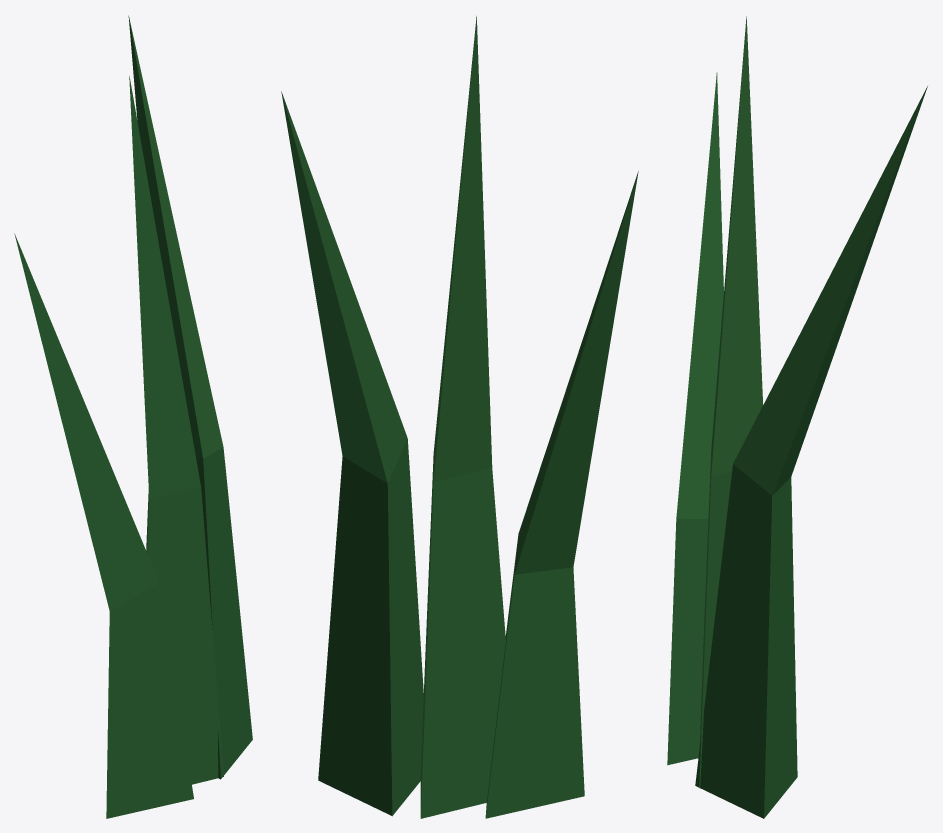
The model's file is TB_Env_Grass_Tall_A.FBX.
3 renders of one model, left to right at view 1: azimuth 30°, elevation 25°; view 2: azimuth 150°, elevation 25°; view 3: azimuth 270°, elevation 25°, orthographic. The views are drawn at different scales.
Visible parts, largest first — view 1: TB_Env_Grass_Tall_A; view 2: TB_Env_Grass_Tall_A; view 3: TB_Env_Grass_Tall_A.
Boxes of the visible parts, x1=… form: TB_Env_Grass_Tall_A: x1=14, y1=15, x2=252, y2=818; TB_Env_Grass_Tall_A: x1=281, y1=16, x2=638, y2=818; TB_Env_Grass_Tall_A: x1=667, y1=16, x2=927, y2=818.
Size of the model in its own units: 0.5437 by 1.4 by 0.4496.
